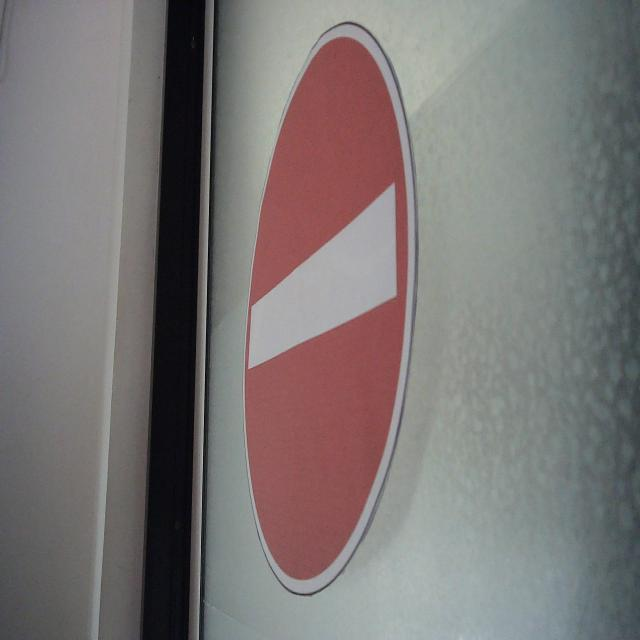no_entry: (242, 19, 422, 599)
